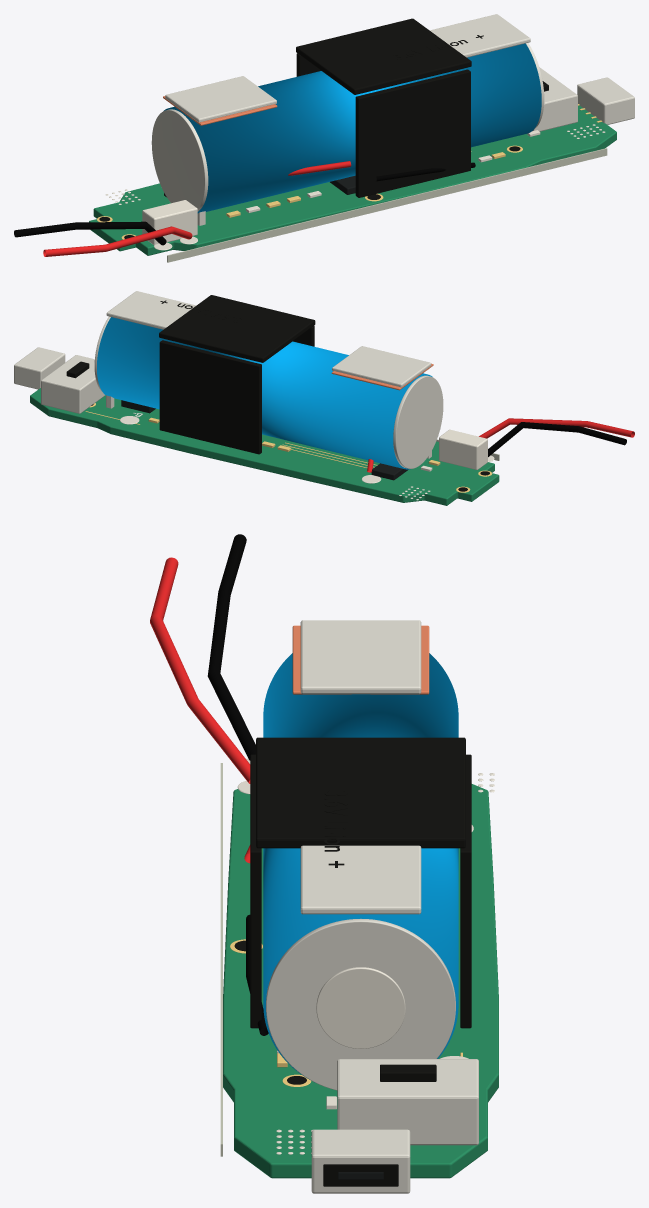
The model's file is trixig_pcb_battery_scaled.glb.
3 views of the same model, one above another, from view 1: azimuth 30°, elevation 25°; view 2: azimuth 150°, elevation 25°; view 3: azimuth 270°, elevation 25° (orthographic). The views are drawn at different scales.
Visible parts, largest first — view 1: Battery_18650_65.02x18.60mm, PCB_95.39x26.31x1.60mm, black_foam_tape_left_side, black_foam_retaining_tape_over_cell, battery_negative_cap, PCB_laminated_edge_visible, left_nickel_battery_tab_top, right_nickel_battery_tab_top, USB_C_outer_shell, slide_switch_metal_can, motor_wire_white_connector, red_motor_wire (+4 smaller); view 2: Battery_18650_65.02x18.60mm, PCB_95.39x26.31x1.60mm, black_foam_tape_right_side, black_foam_retaining_tape_over_cell, battery_negative_cap, slide_switch_metal_can, left_nickel_battery_tab_top, right_nickel_battery_tab_top, motor_wire_white_connector, USB_C_outer_shell, black_motor_wire, red_motor_wire (+2 smaller); view 3: PCB_95.39x26.31x1.60mm, black_foam_retaining_tape_over_cell, Battery_18650_65.02x18.60mm, battery_positive_cap, slide_switch_metal_can, left_nickel_battery_tab_top, right_nickel_battery_tab_top, battery_positive_button, USB_C_outer_shell, red_motor_wire, black_motor_wire, black_foam_tape_right_side (+5 smaller).
Boxes of the visible parts, left/top/right/bottom form: Battery_18650_65.02x18.60mm: left=164, top=43, right=541, bottom=213; PCB_95.39x26.31x1.60mm: left=89, top=105, right=616, bottom=255; black_foam_tape_left_side: left=355, top=69, right=470, bottom=197; black_foam_retaining_tape_over_cell: left=296, top=18, right=471, bottom=94; battery_negative_cap: left=151, top=109, right=208, bottom=211; PCB_laminated_edge_visible: left=167, top=148, right=607, bottom=262; left_nickel_battery_tab_top: left=165, top=76, right=276, bottom=122; right_nickel_battery_tab_top: left=430, top=14, right=530, bottom=57; USB_C_outer_shell: left=577, top=77, right=634, bottom=124; slide_switch_metal_can: left=533, top=67, right=577, bottom=131; motor_wire_white_connector: left=142, top=200, right=197, bottom=244; red_motor_wire: left=43, top=226, right=192, bottom=256; Battery_18650_65.02x18.60mm: left=97, top=317, right=432, bottom=469; PCB_95.39x26.31x1.60mm: left=30, top=388, right=499, bottom=505; black_foam_tape_right_side: left=159, top=340, right=261, bottom=454; black_foam_retaining_tape_over_cell: left=159, top=295, right=315, bottom=362; battery_negative_cap: left=393, top=375, right=443, bottom=468; slide_switch_metal_can: left=41, top=355, right=105, bottom=413; left_nickel_battery_tab_top: left=332, top=346, right=431, bottom=387; right_nickel_battery_tab_top: left=106, top=291, right=196, bottom=329; motor_wire_white_connector: left=439, top=429, right=487, bottom=469; USB_C_outer_shell: left=14, top=347, right=65, bottom=389; black_motor_wire: left=488, top=422, right=626, bottom=456; red_motor_wire: left=479, top=418, right=634, bottom=438; PCB_95.39x26.31x1.60mm: left=223, top=784, right=498, bottom=1178; black_foam_retaining_tape_over_cell: left=256, top=737, right=465, bottom=848; Battery_18650_65.02x18.60mm: left=263, top=653, right=458, bottom=1082; battery_positive_cap: left=266, top=918, right=455, bottom=1090; slide_switch_metal_can: left=337, top=1059, right=478, bottom=1145; left_nickel_battery_tab_top: left=300, top=620, right=421, bottom=694; right_nickel_battery_tab_top: left=300, top=845, right=421, bottom=914; battery_positive_button: left=316, top=967, right=405, bottom=1048; USB_C_outer_shell: left=311, top=1129, right=410, bottom=1193; red_motor_wire: left=150, top=557, right=250, bottom=783; black_motor_wire: left=207, top=534, right=255, bottom=760; black_foam_tape_right_side: left=460, top=754, right=471, bottom=1028.
Bounding box in the file's own units: 0.1256 × 0.0222 × 0.0333.
